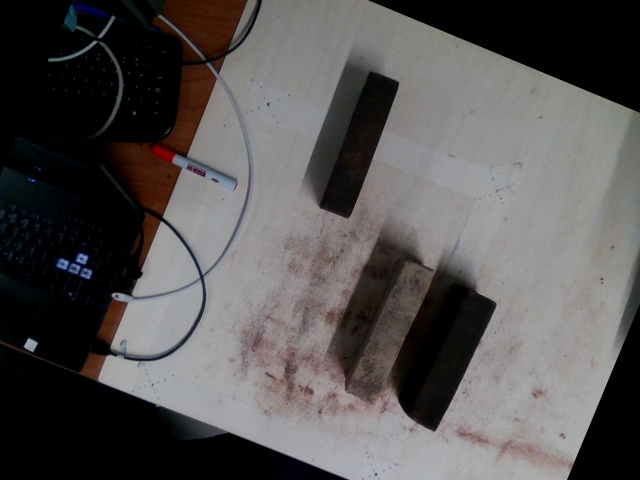brick-side: (344, 262, 435, 403), (411, 291, 495, 429), (323, 72, 400, 214)
